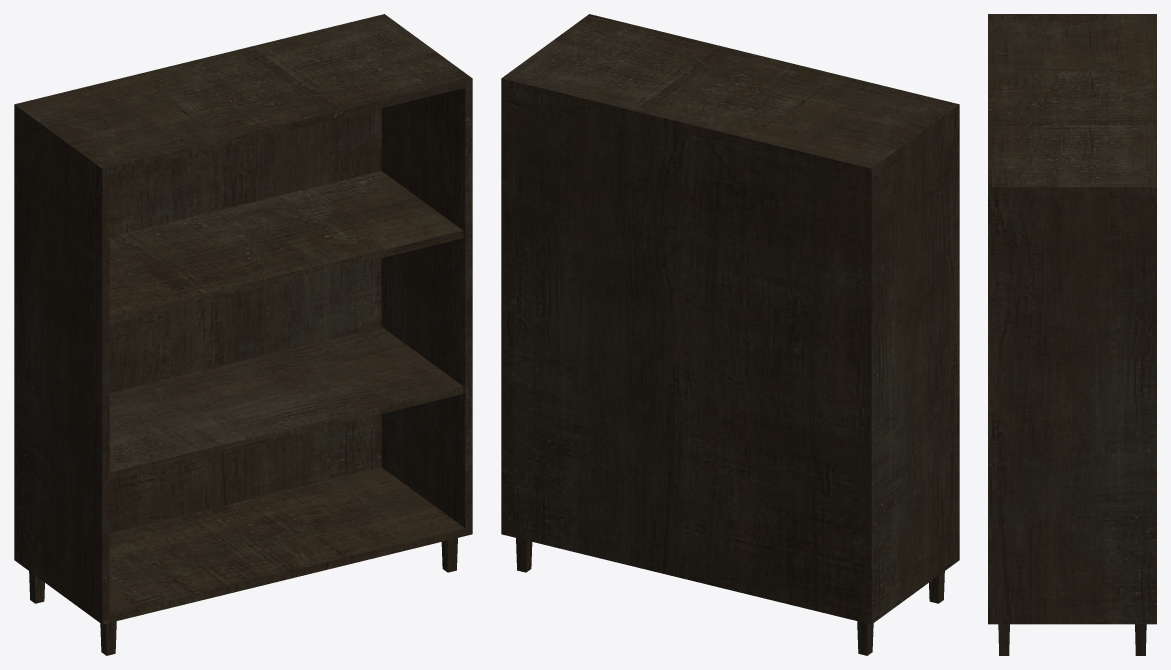
Rendered from shelf_mp_3_4.glb.
3 renders of one model, left to right at view 1: azimuth 30°, elevation 25°; view 2: azimuth 150°, elevation 25°; view 3: azimuth 270°, elevation 25°, orthographic. The views are drawn at different scales.
Visible parts, largest first — view 1: shelf_mp_3_4; view 2: shelf_mp_3_4; view 3: shelf_mp_3_4.
Boxes of the visible parts, <box> form: shelf_mp_3_4: <box>14,14,472,655</box>; shelf_mp_3_4: <box>501,14,959,655</box>; shelf_mp_3_4: <box>988,14,1156,655</box>.
Bounding box in the file's own units: 1.02 × 1.3 × 0.42.
Materials: 1 (1 with a texture image).
